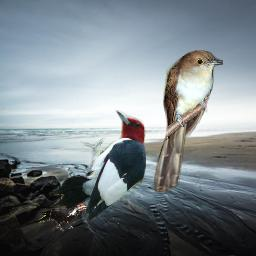Cuckoo: (154, 49, 223, 192)
Woodpecker: (49, 110, 146, 221), (31, 202, 93, 232)
